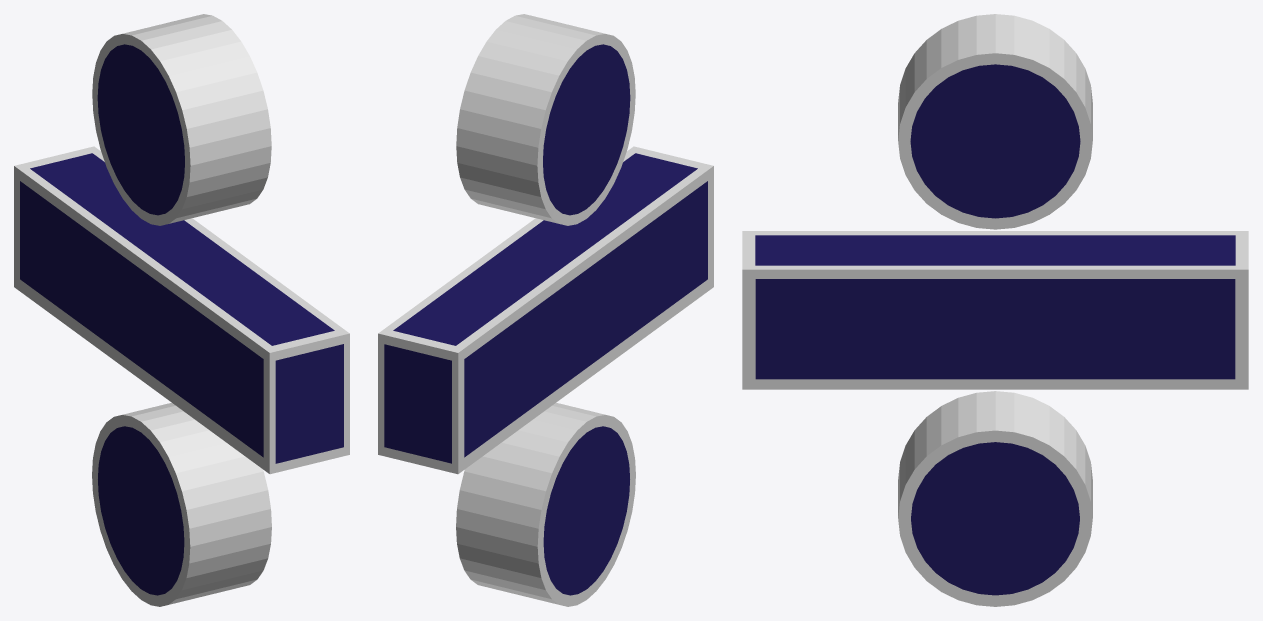
The model's file is Devide.fbx.
3 views of the same model, side by side, from view 1: azimuth 30°, elevation 25°; view 2: azimuth 150°, elevation 25°; view 3: azimuth 270°, elevation 25° (orthographic).
Parts seen in each view (by area): view 1: Cube, Cylinder, Cylinder.001; view 2: Cube, Cylinder, Cylinder.001; view 3: Cube, Cylinder.001, Cylinder.
Boxes of the visible parts, x1,y1,x2,y2 form: Cube: (14,146,349,474); Cylinder: (92,14,271,225); Cylinder.001: (92,402,271,606); Cube: (378,146,713,474); Cylinder: (456,14,635,225); Cylinder.001: (456,402,635,606); Cube: (742,231,1248,389); Cylinder.001: (898,391,1092,606); Cylinder: (898,14,1092,229).
Bounding box in the file's own units: 96.01 × 628 × 520.
